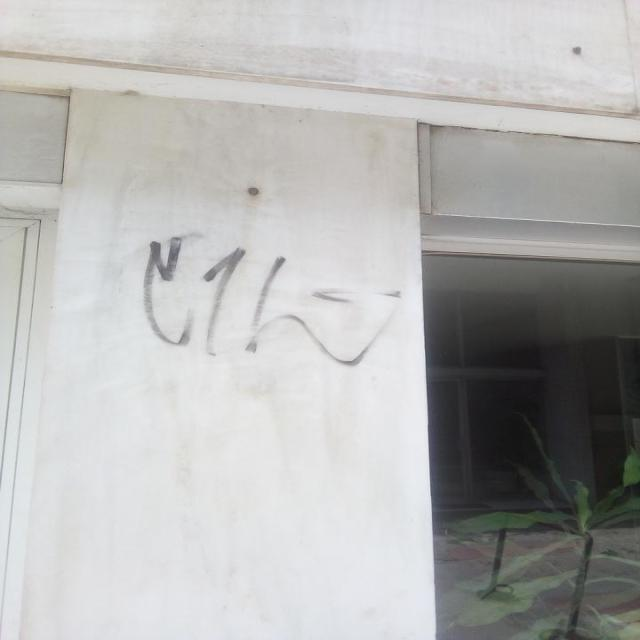nonspitting: (142, 234, 403, 366)
